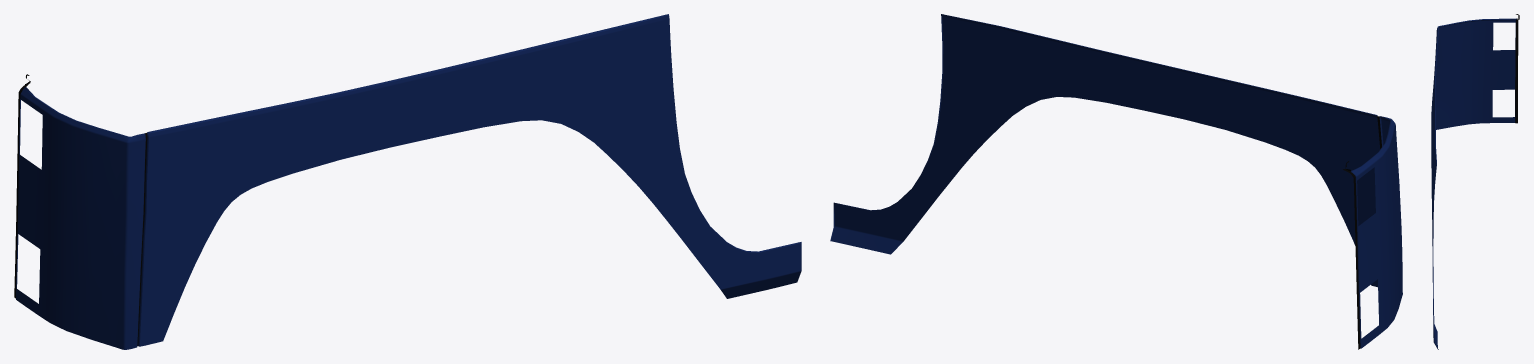
3 renders of one model, left to right at view 1: azimuth 30°, elevation 25°; view 2: azimuth 150°, elevation 25°; view 3: azimuth 270°, elevation 25°, orthographic. The views are drawn at different scales.
Visible parts, largest first — view 1: J715_8A_401B_R_1_DaS_J715_8A_401B_R, J715_8A_401B_R_1_DaS_J715_8A_401B_R_E, J715_8A_401B_R_J715_8A_401B_R_2_D; view 2: J715_8A_401B_R_1_DaS_J715_8A_401B_R, J715_8A_401B_R_1_DaS_J715_8A_401B_R_E, J715_8A_401B_R_J715_8A_401B_R_2_D; view 3: J715_8A_401B_R_1_DaS_J715_8A_401B_R, J715_8A_401B_R_1_DaS_J715_8A_401B_R_E, J715_8A_401B_R_J715_8A_401B_R_2_D.
Part boxes in pixels (x1,y1,x2,y2): J715_8A_401B_R_1_DaS_J715_8A_401B_R: [16, 15, 801, 349]; J715_8A_401B_R_1_DaS_J715_8A_401B_R_E: [16, 14, 801, 346]; J715_8A_401B_R_J715_8A_401B_R_2_D: [14, 74, 147, 345]; J715_8A_401B_R_1_DaS_J715_8A_401B_R: [831, 14, 1402, 347]; J715_8A_401B_R_1_DaS_J715_8A_401B_R_E: [830, 14, 1392, 348]; J715_8A_401B_R_J715_8A_401B_R_2_D: [1343, 116, 1381, 349]; J715_8A_401B_R_1_DaS_J715_8A_401B_R: [1431, 19, 1515, 347]; J715_8A_401B_R_1_DaS_J715_8A_401B_R_E: [1432, 18, 1516, 349]; J715_8A_401B_R_J715_8A_401B_R_2_D: [1515, 14, 1519, 123].
Bounding box in the file's own units: 168 × 72.67 × 35.68.
